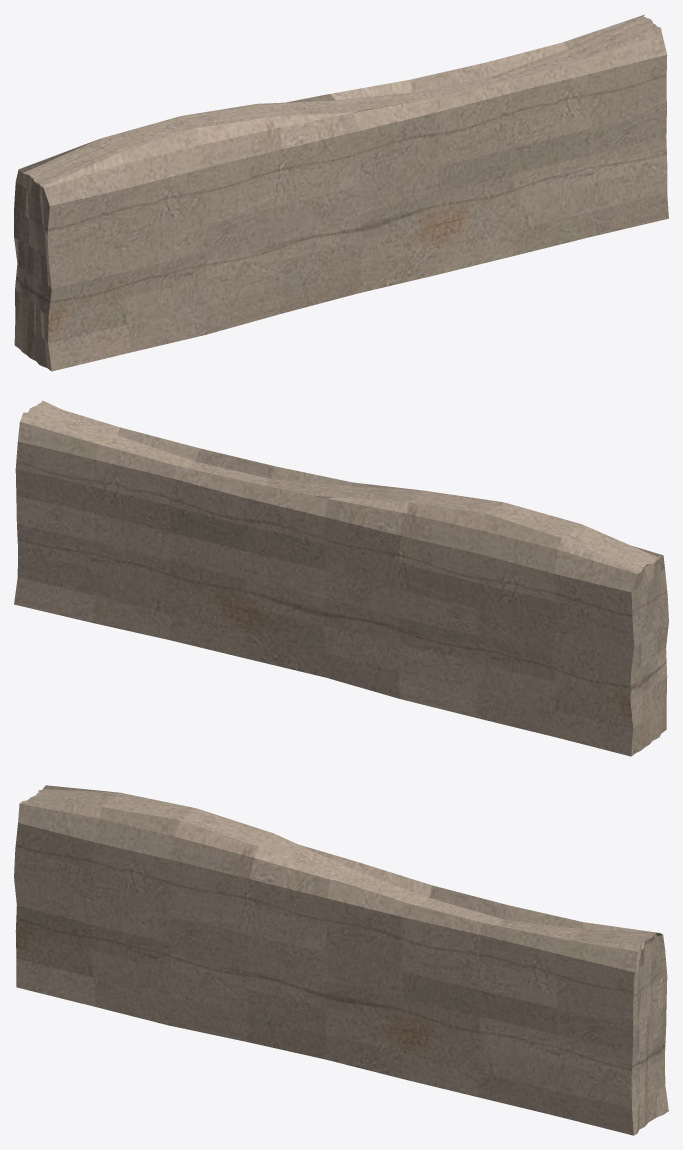
Rendered from mid.glb.
The picture shows the model from 3 angles, top to bottom: view 1: azimuth 30°, elevation 25°; view 2: azimuth 150°, elevation 25°; view 3: azimuth 330°, elevation 25°; orthographic projection.
Visible parts, largest first — view 1: mid; view 2: mid; view 3: mid.
Boxes of the visible parts, <box> form: mid: <box>14,14,668,371</box>; mid: <box>14,400,668,756</box>; mid: <box>14,785,668,1135</box>.
Size of the model in its own units: 4.02 by 1.23 by 0.4196.
Materials: 1 (1 with a texture image).
